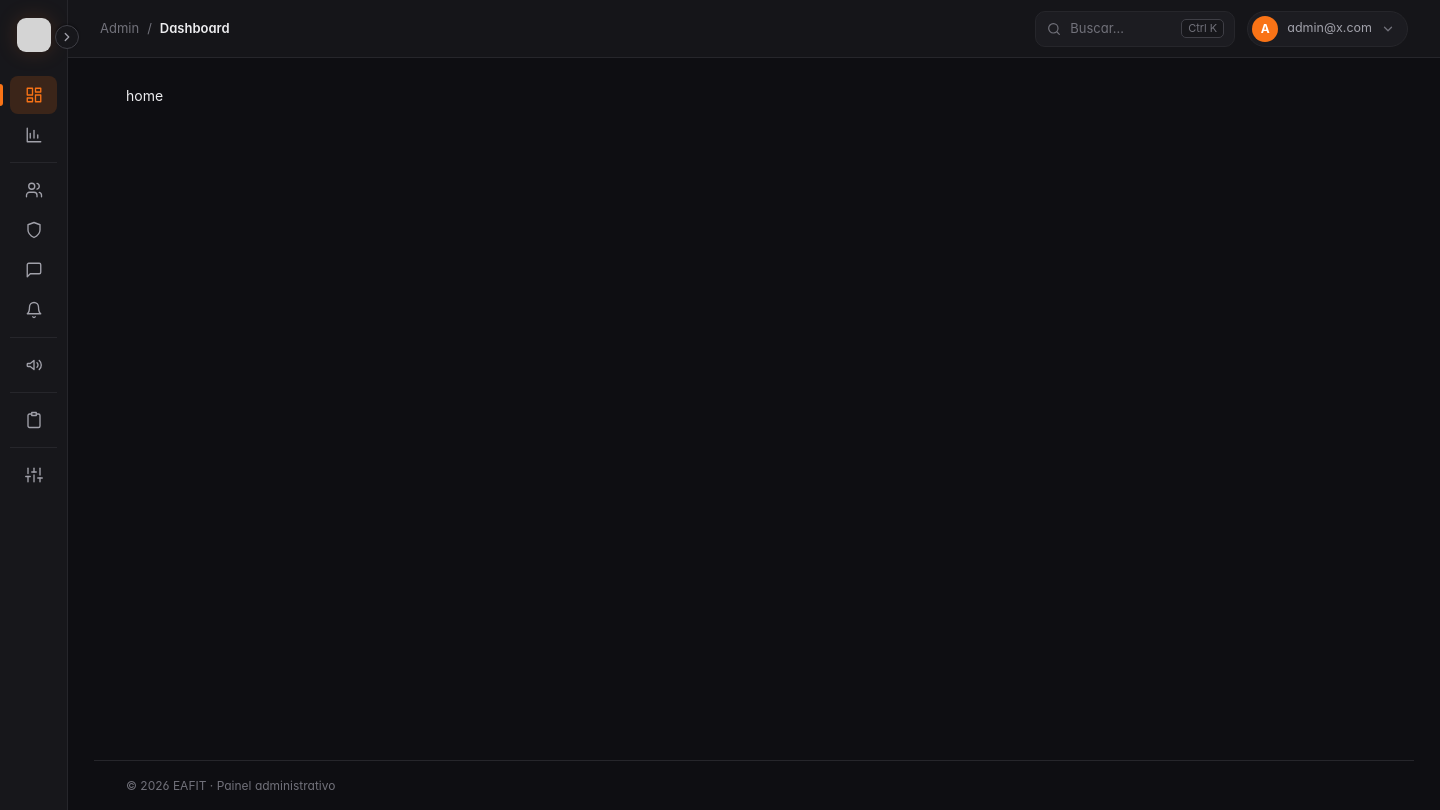
Layout › topbar mostra e-mail e o menu da conta tem perfil, links e sair
The width and height of the screenshot is (1440, 810).
Expected: the text "admin@x.com" is shown, [1287, 19, 1372, 38]
Click the button with aria-label "Menu da conta" at (1328, 28), box [1247, 10, 1408, 46]
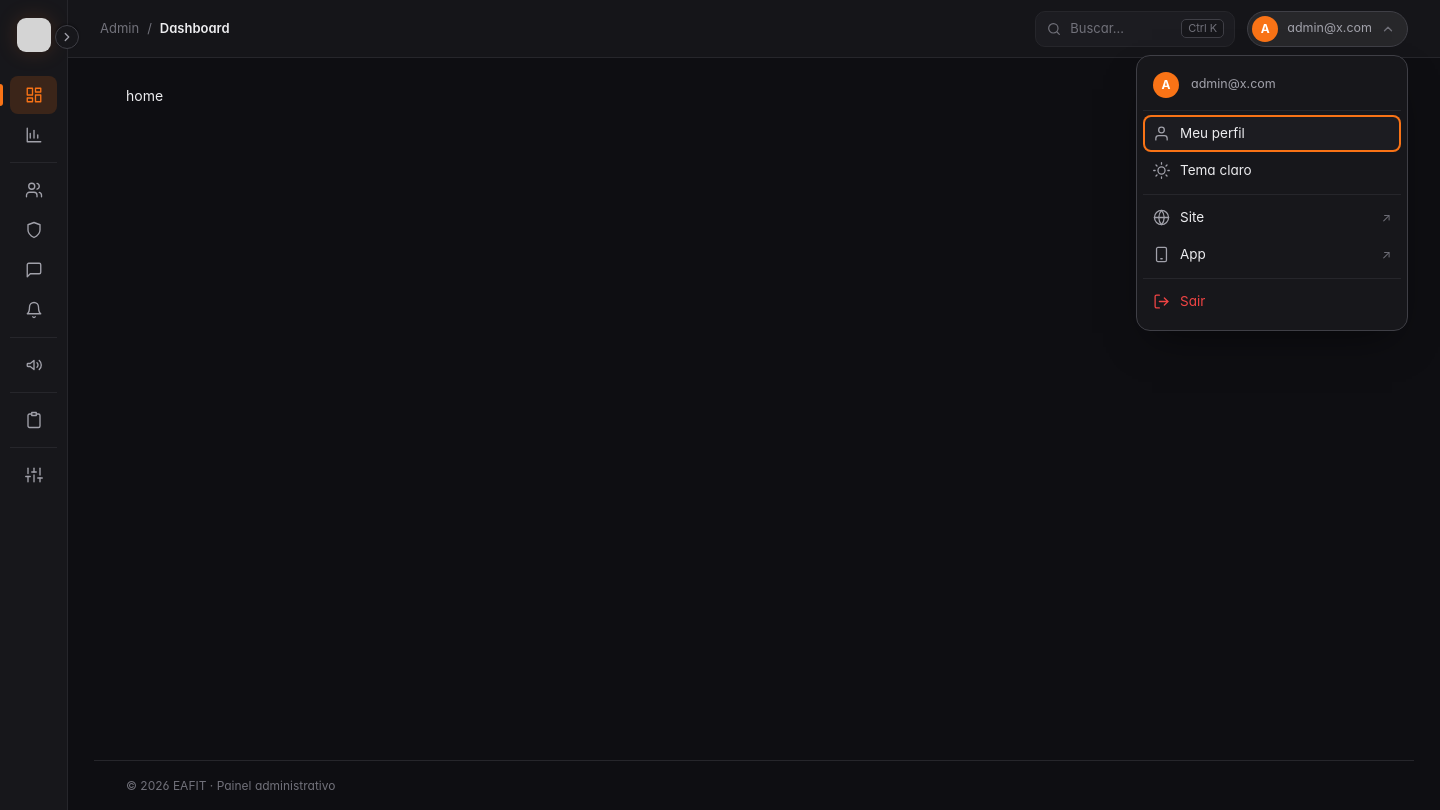
Click the menu item "Sair" at (1272, 302), box [1143, 283, 1401, 320]
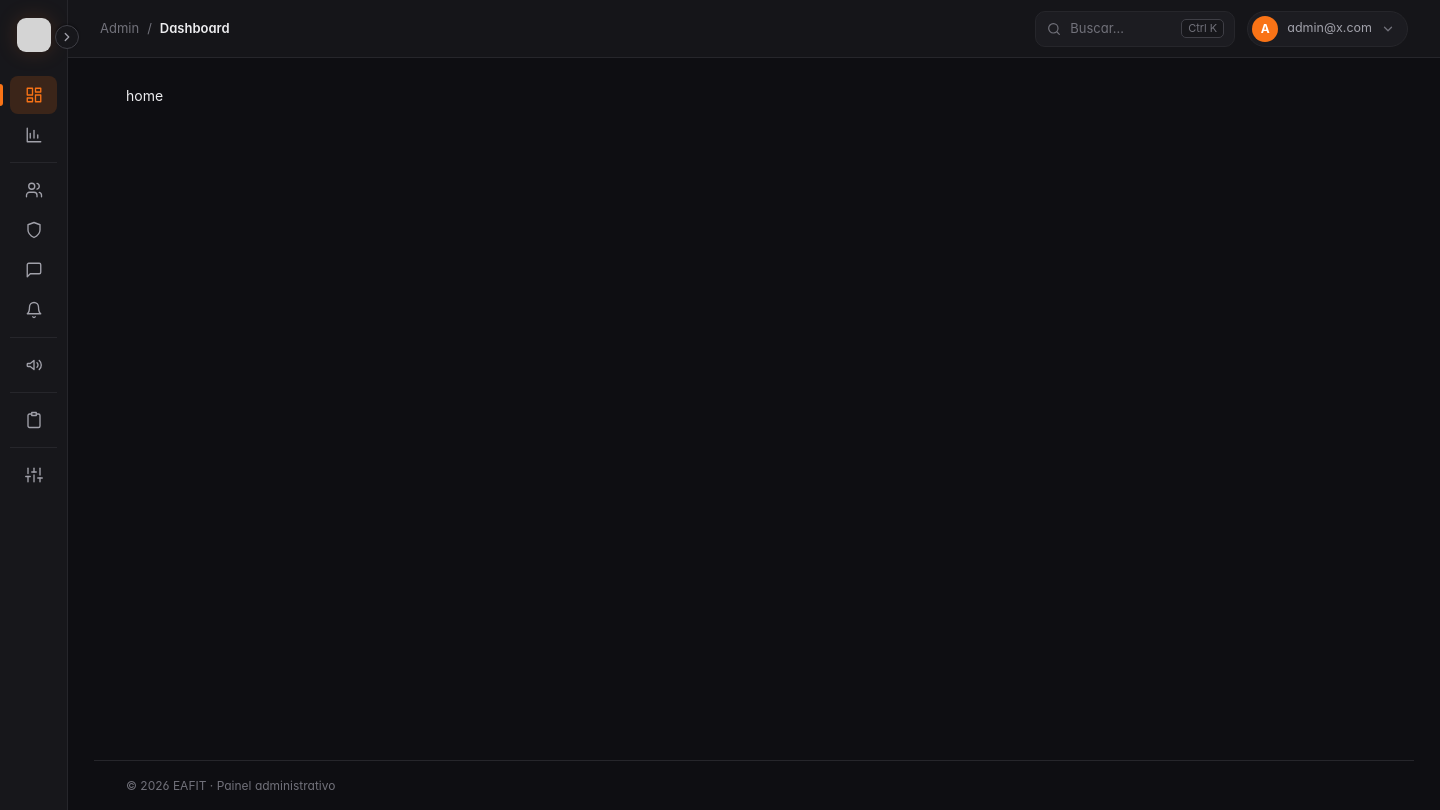
Result: the menu is gone
